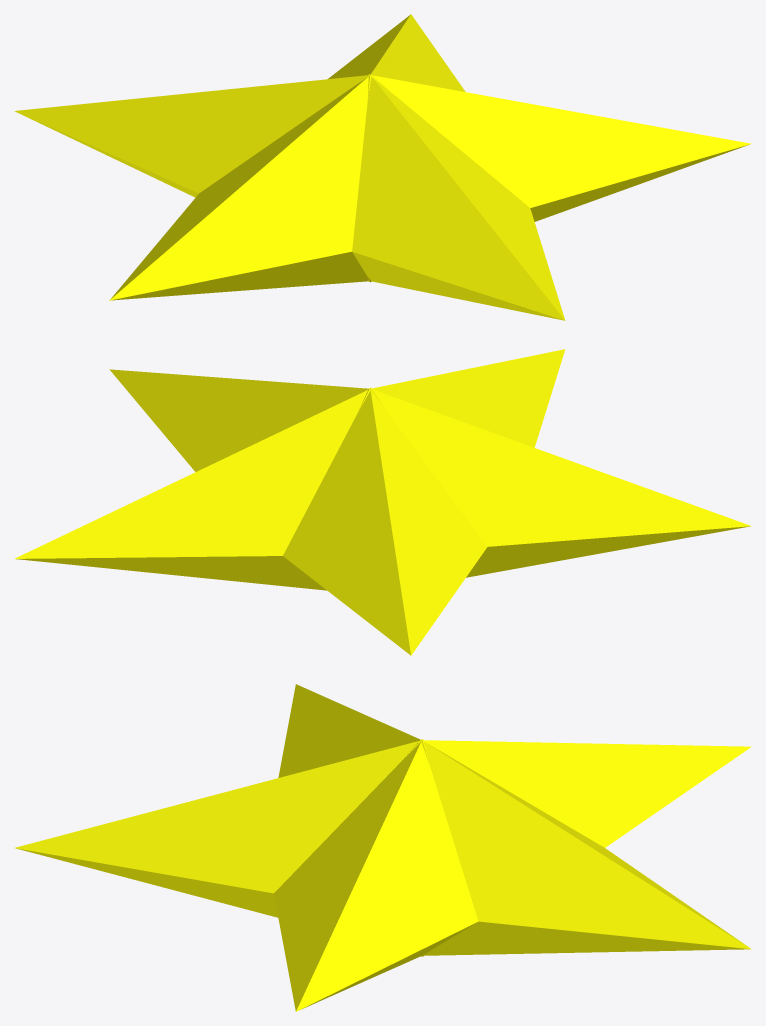
Rendered from StarParticle.dae.
3 renders of one model, top to bottom at view 1: azimuth 30°, elevation 25°; view 2: azimuth 150°, elevation 25°; view 3: azimuth 270°, elevation 25°, orthographic. The views are drawn at different scales.
Visible parts, largest first — view 1: Cube.008, Cube.012, Cube.009, Cube.011, Cube.010, Cube.013, Cube.017, Cube.016, Cube.014; view 2: Cube.011, Cube.010, Cube.012, Cube.009, Cube.008, Cube.015, Cube.013; view 3: Cube.009, Cube.010, Cube.008, Cube.011, Cube.012, Cube.015, Cube.017, Cube.016.
Part boxes in pixels (x1,y1,x2,y2): Cube.008: (352,74,565,320); Cube.012: (109,74,373,300); Cube.009: (349,74,751,207); Cube.011: (14,75,391,193); Cube.010: (328,14,465,99); Cube.013: (110,251,368,300); Cube.017: (352,252,563,320); Cube.016: (368,144,749,281); Cube.014: (17,112,198,197); Cube.011: (283,387,487,655); Cube.010: (14,388,377,558); Cube.012: (356,388,751,546); Cube.009: (109,369,385,471); Cube.008: (359,349,565,447); Cube.015: (16,556,326,590); Cube.013: (466,526,749,577); Cube.009: (274,739,478,1011); Cube.010: (416,739,751,949); Cube.008: (15,739,444,893); Cube.011: (402,740,751,847); Cube.012: (278,684,429,777); Cube.015: (424,921,749,955); Cube.017: (16,848,423,956); Cube.016: (299,922,476,1010).
Size of the model in its own units: 2.6 by 2.47 by 0.8.
